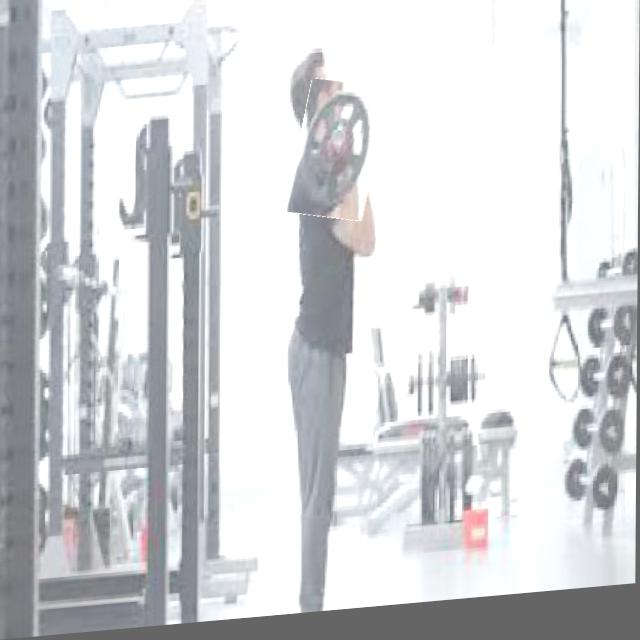barbell: (291, 84, 384, 231)
